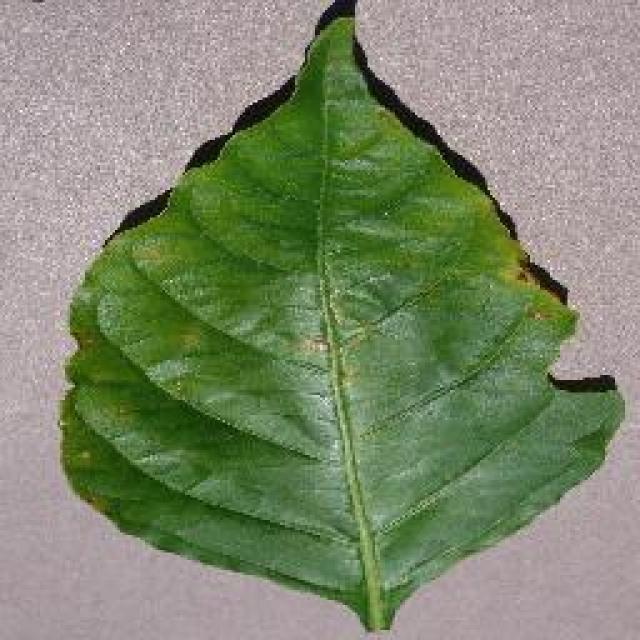Chilli_Bacterial_Spot: (52, 7, 628, 635), (495, 250, 575, 328), (505, 260, 540, 290), (352, 628, 398, 638), (18, 0, 52, 5)
